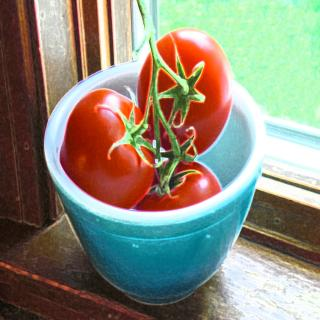tomato: (133, 28, 234, 154), (58, 86, 160, 209), (136, 155, 222, 207)
